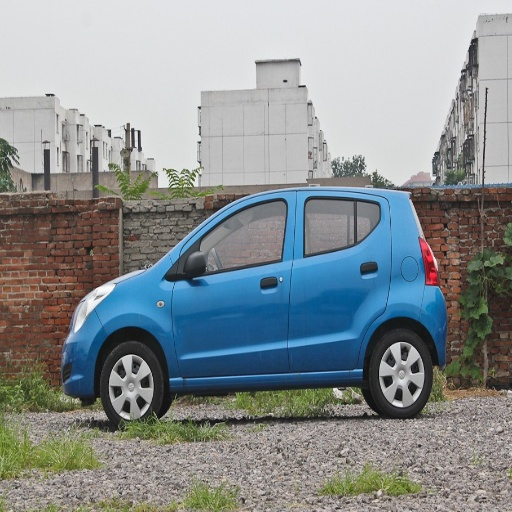back_left_door: (288, 193, 389, 372)
front_left_door: (172, 196, 296, 378)
